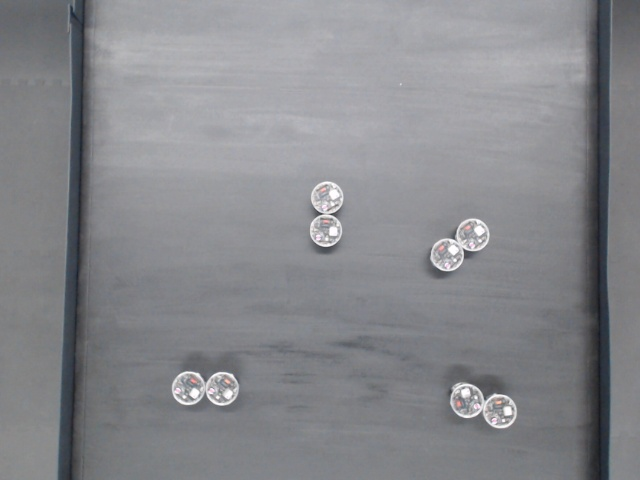epuck_2: (171, 371, 206, 406), (449, 382, 483, 418), (207, 372, 240, 407), (484, 393, 517, 428), (428, 238, 463, 270), (310, 214, 343, 247), (456, 219, 489, 251), (311, 182, 343, 214)
